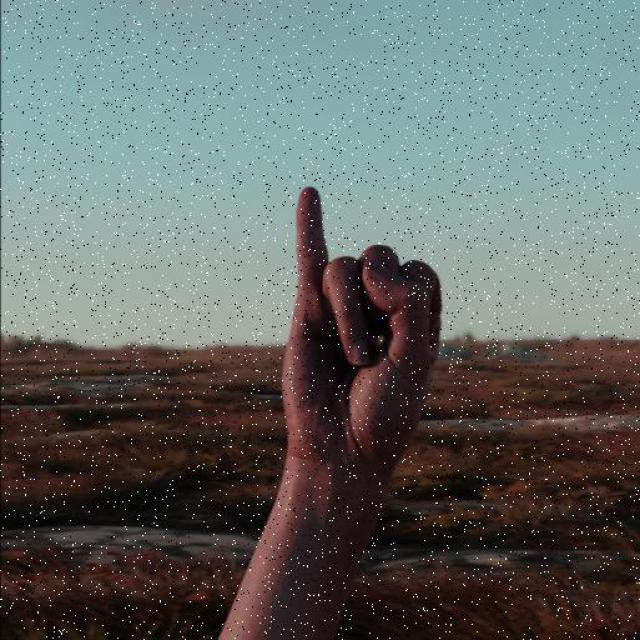I: (249, 145, 458, 519)
